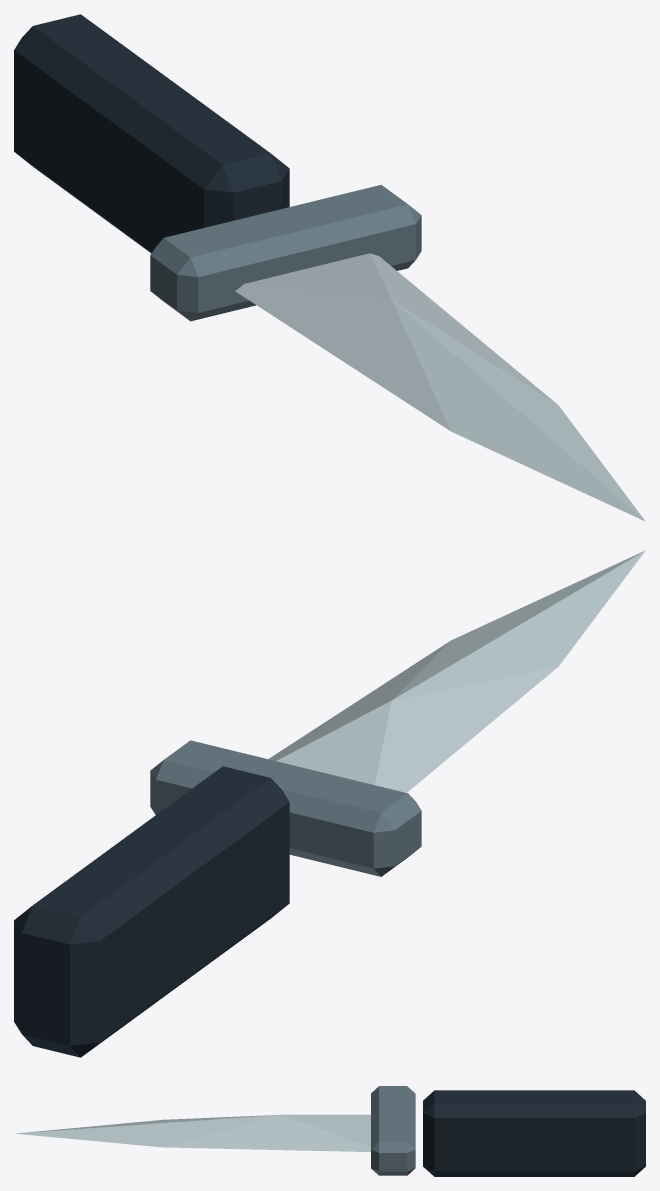
Rendered from fps-knife.lod0.glb.
The picture shows the model from 3 angles, top to bottom: view 1: azimuth 30°, elevation 25°; view 2: azimuth 150°, elevation 25°; view 3: azimuth 270°, elevation 25°; orthographic projection. The views are drawn at different scales.
Visible parts, largest first — view 1: fps-knife__body; view 2: fps-knife__body; view 3: fps-knife__body.
Boxes of the visible parts, <box> form: fps-knife__body: <box>14,14,645,521</box>; fps-knife__body: <box>14,550,645,1057</box>; fps-knife__body: <box>16,1086,645,1176</box>.
Size of the model in its own units: 0.1 by 0.055 by 0.425.
